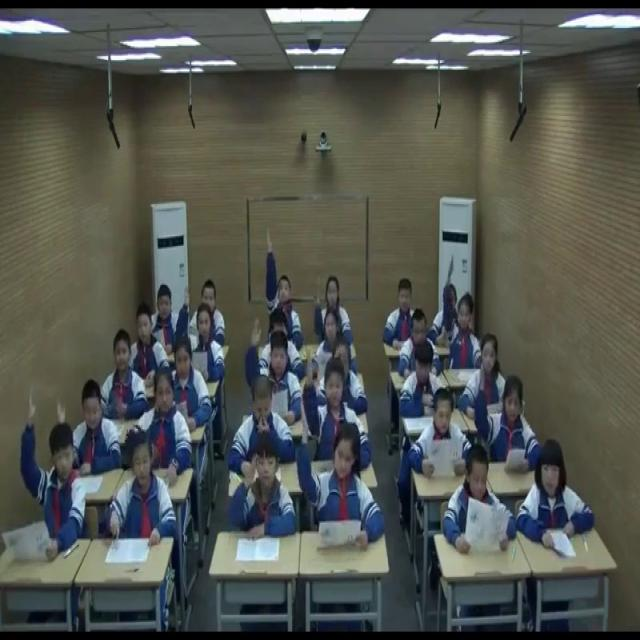focused: (444, 444, 518, 562), (516, 446, 596, 554), (110, 432, 176, 544), (139, 368, 194, 482), (410, 392, 474, 484), (102, 331, 148, 425), (398, 340, 448, 423), (170, 336, 214, 428), (319, 343, 367, 417), (131, 308, 172, 380), (384, 277, 423, 349), (312, 308, 352, 372), (147, 284, 182, 357), (399, 312, 437, 377)
raising_hand: (297, 405, 385, 546), (20, 386, 84, 558), (300, 348, 371, 462), (471, 358, 542, 468), (56, 378, 121, 480), (232, 434, 296, 536), (246, 314, 304, 426), (177, 284, 226, 381), (444, 254, 483, 370), (263, 229, 302, 344), (313, 272, 353, 348)
